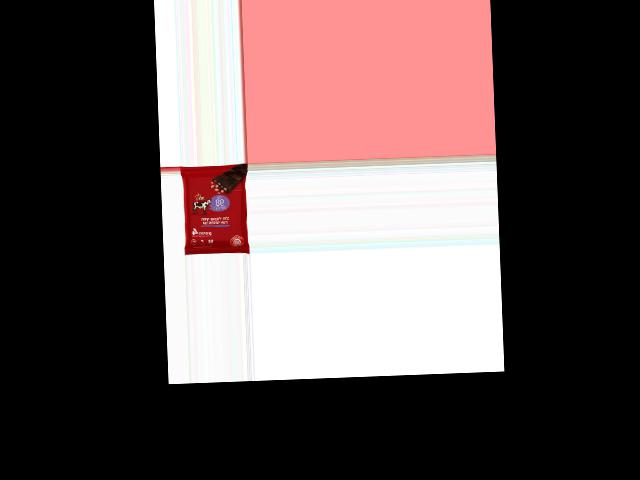chocolate: (180, 164, 248, 256)
